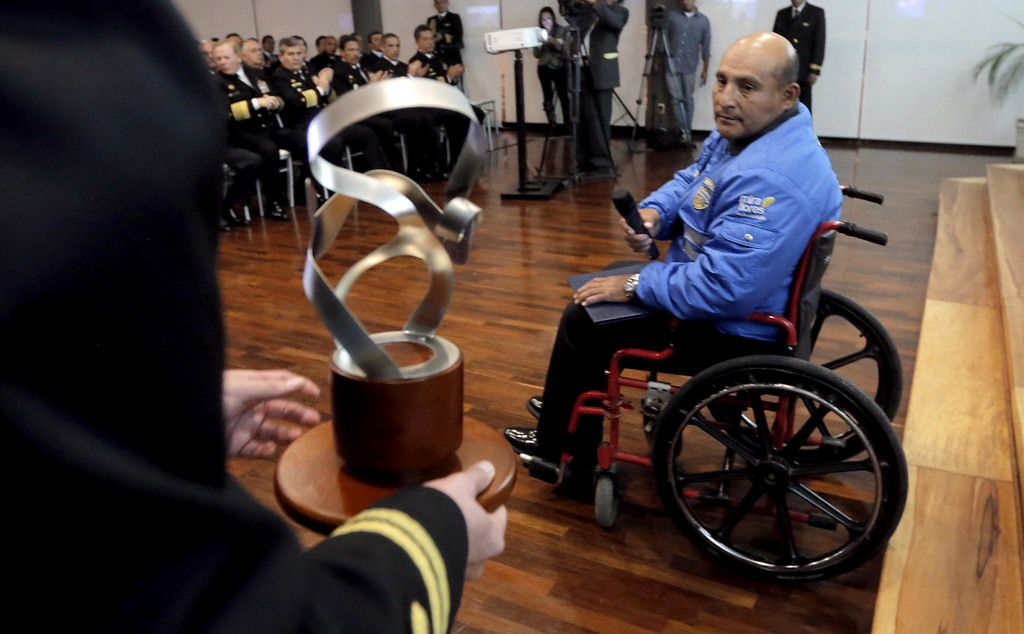Person: (0, 0, 842, 633)
